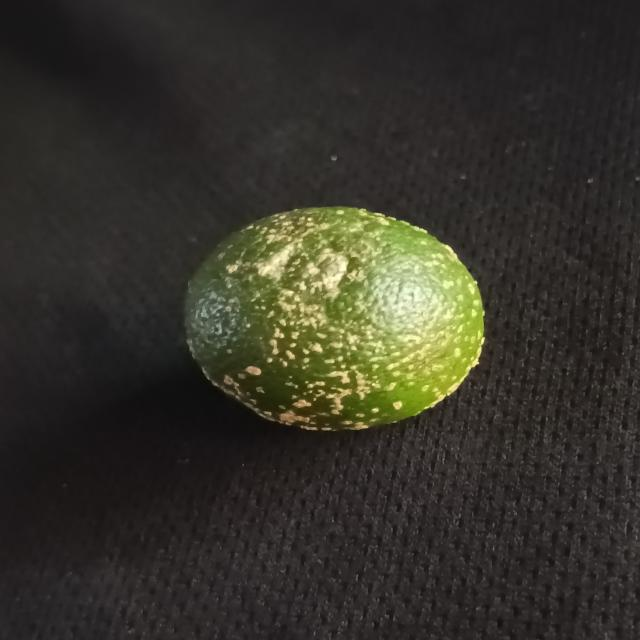scab: (182, 208, 491, 429)
